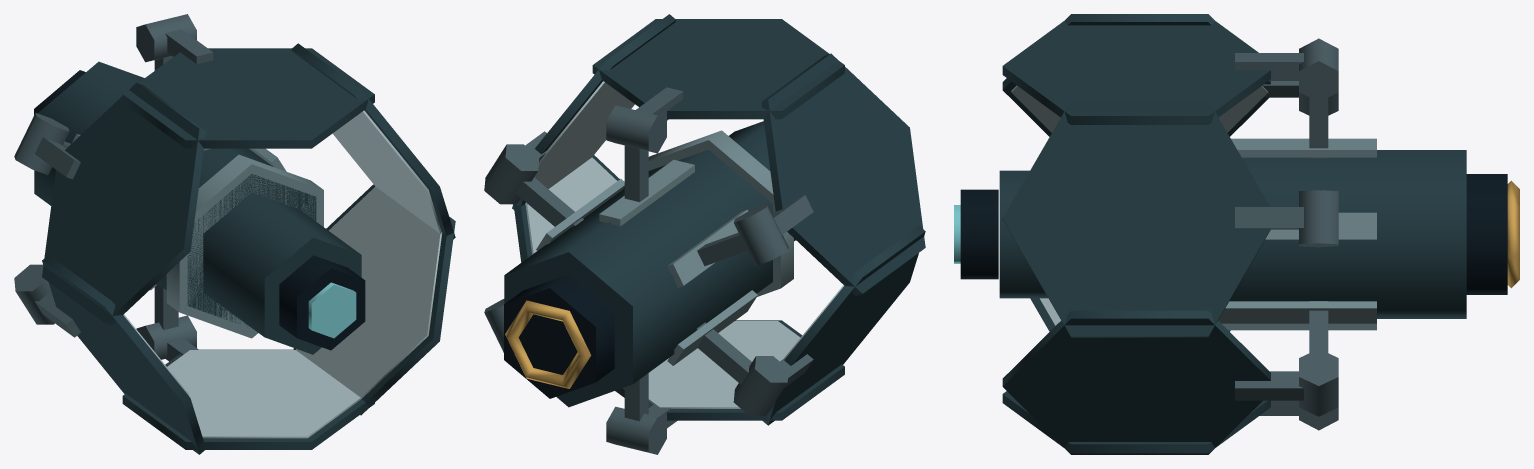
The model's file is satellite_d0_lod2.meshopt.glb.
3 views of the same model, side by side, from view 1: azimuth 30°, elevation 25°; view 2: azimuth 150°, elevation 25°; view 3: azimuth 270°, elevation 25° (orthographic). The views are drawn at different scales.
Parts seen in each view (by area): view 1: DISTANCE_STATIC; view 2: DISTANCE_STATIC; view 3: DISTANCE_STATIC.
Boxes of the visible parts, x1,y1,x2,y2 form: DISTANCE_STATIC: (14, 14, 455, 454); DISTANCE_STATIC: (484, 14, 925, 454); DISTANCE_STATIC: (954, 14, 1519, 454).
Bounding box in the file's own units: 2.31 × 2.14 × 2.97.
